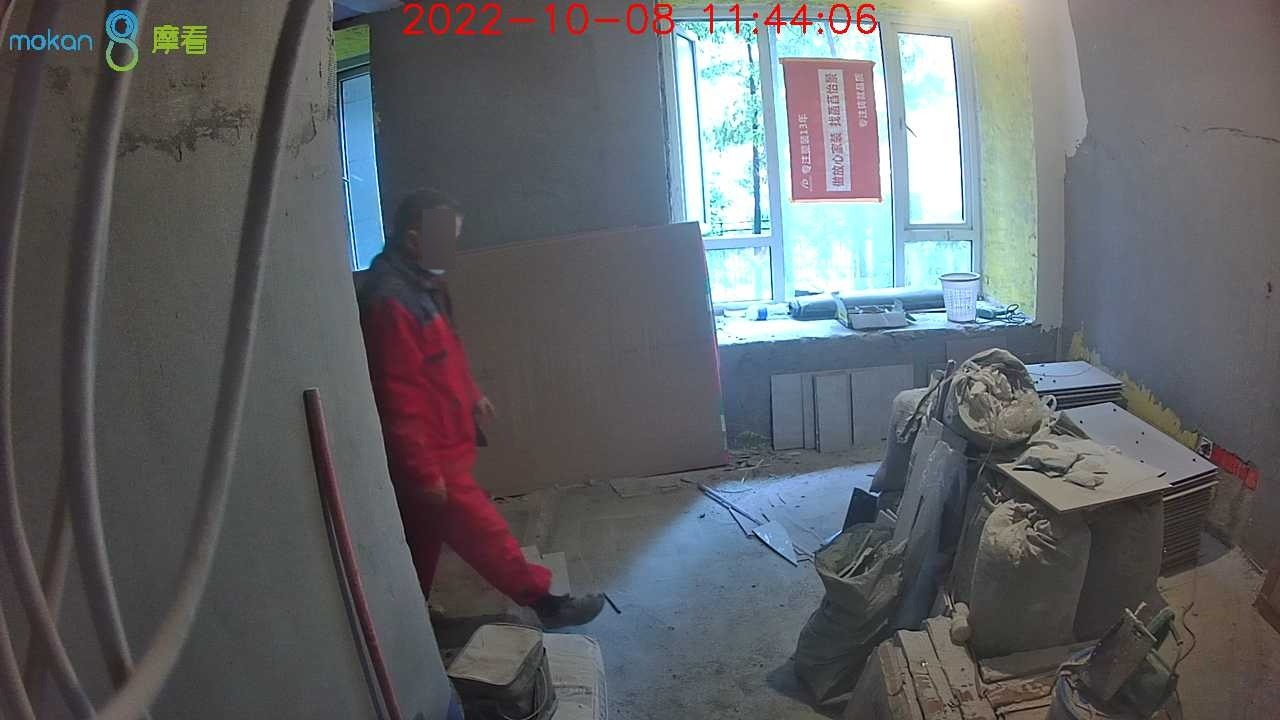people: (362, 187, 608, 632)
window: (664, 18, 980, 306)
